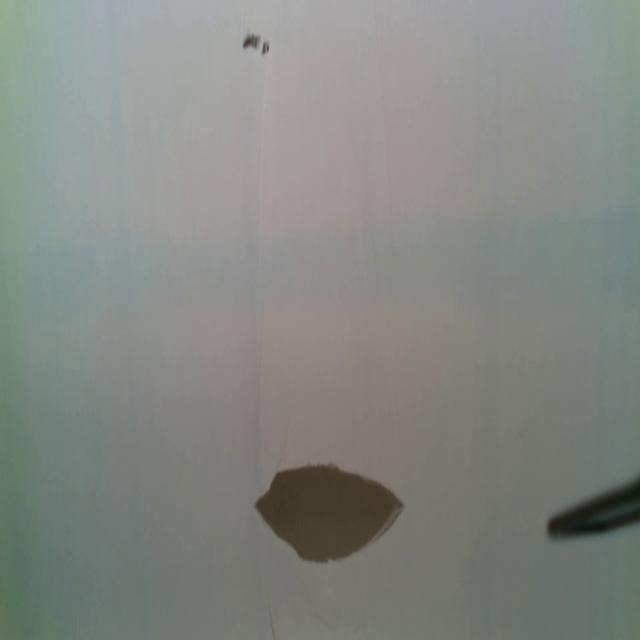color bleeding: (1, 196, 640, 327)
hole: (253, 460, 407, 566), (242, 33, 260, 52), (262, 37, 270, 58)
